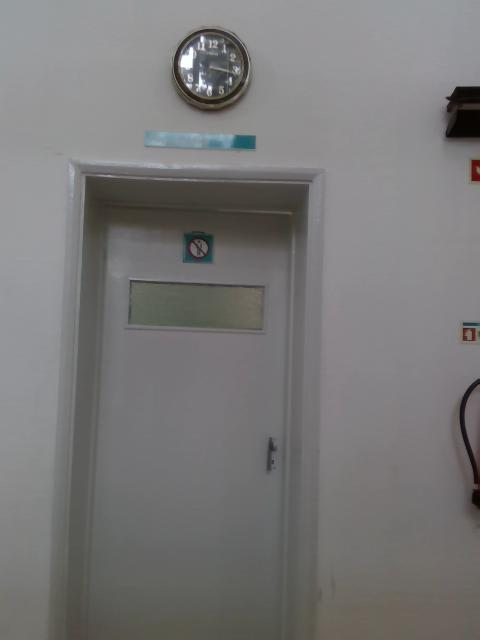door: (82, 208, 292, 640)
